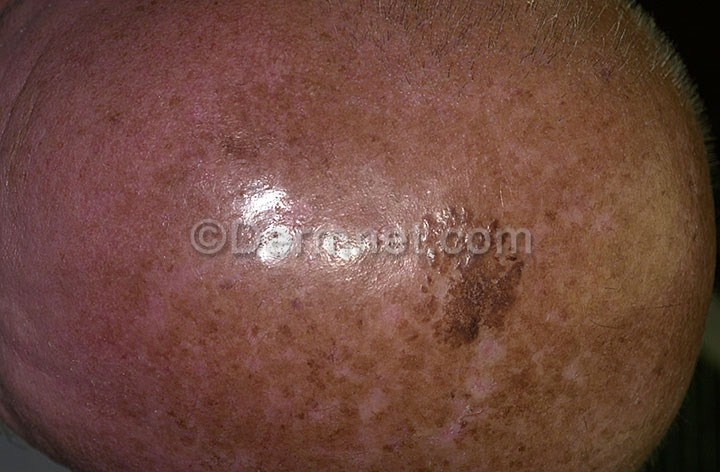Melasma: (371, 262, 627, 472), (149, 25, 451, 201), (167, 296, 365, 465)
